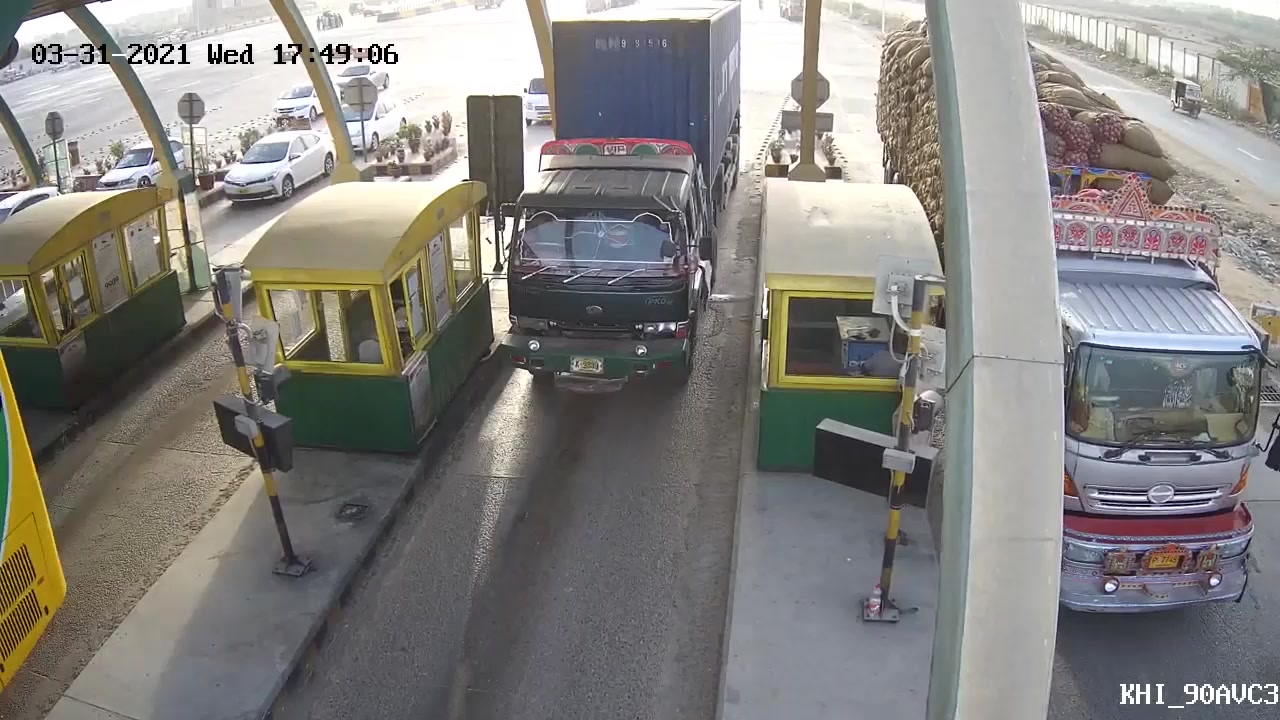F6: (498, 1, 752, 397)
